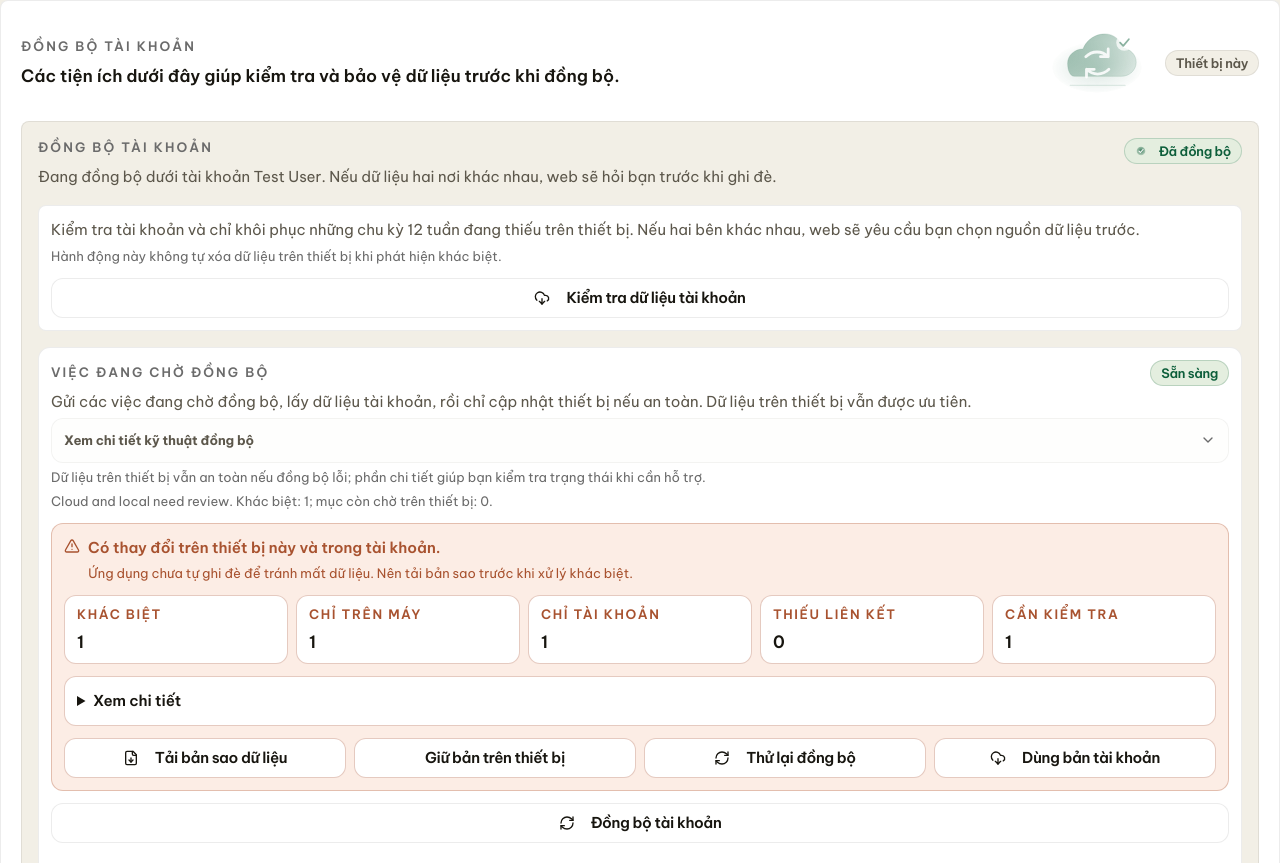
Test case: TwelveWeekLocalStatusSection › 'Dùng bản tài khoản' button shows confirm dialog — does not apply without checkbox
Click the button "Dùng bản tài khoản" at coordinates (1075, 758), box x1=934 y1=738 x2=1216 y2=778
(page scrolled)
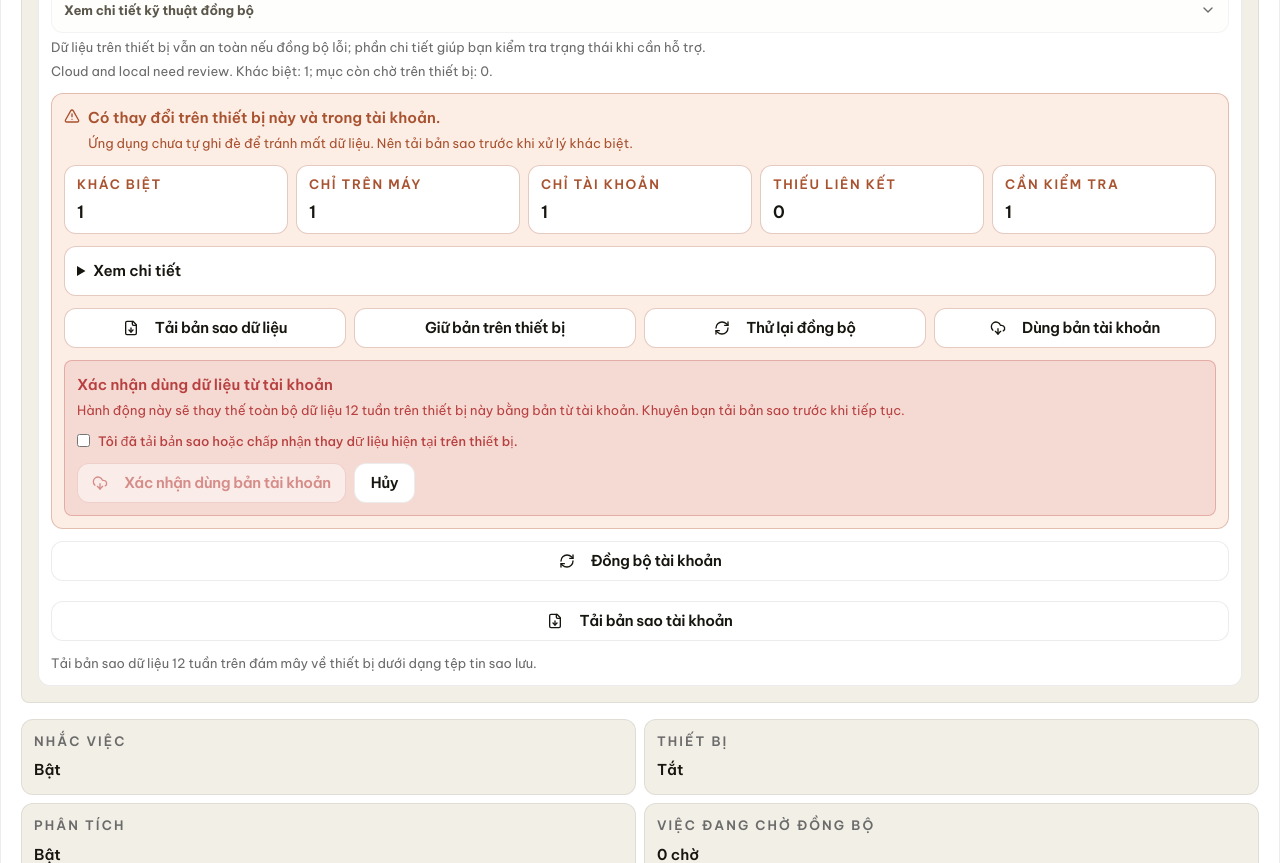
Check: the text "Xác nhận dùng dữ liệu từ tài khoản" is shown, box x1=77 y1=374 x2=333 y2=394
Check: the button "Xác nhận dùng bản tài khoản" is disabled, box x1=77 y1=463 x2=346 y2=503
